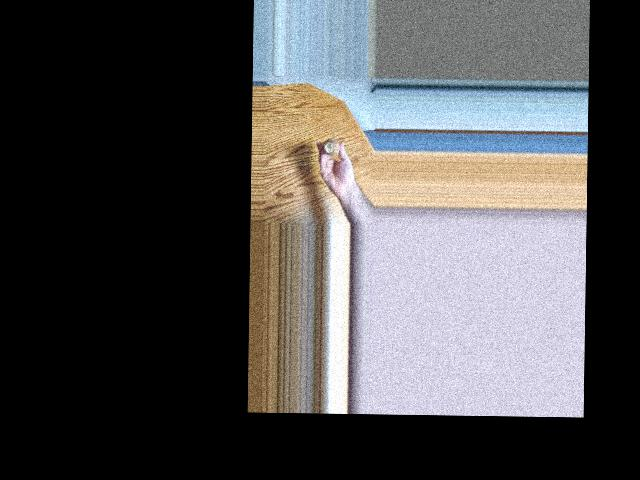sweet_potato: (323, 138, 342, 153)
